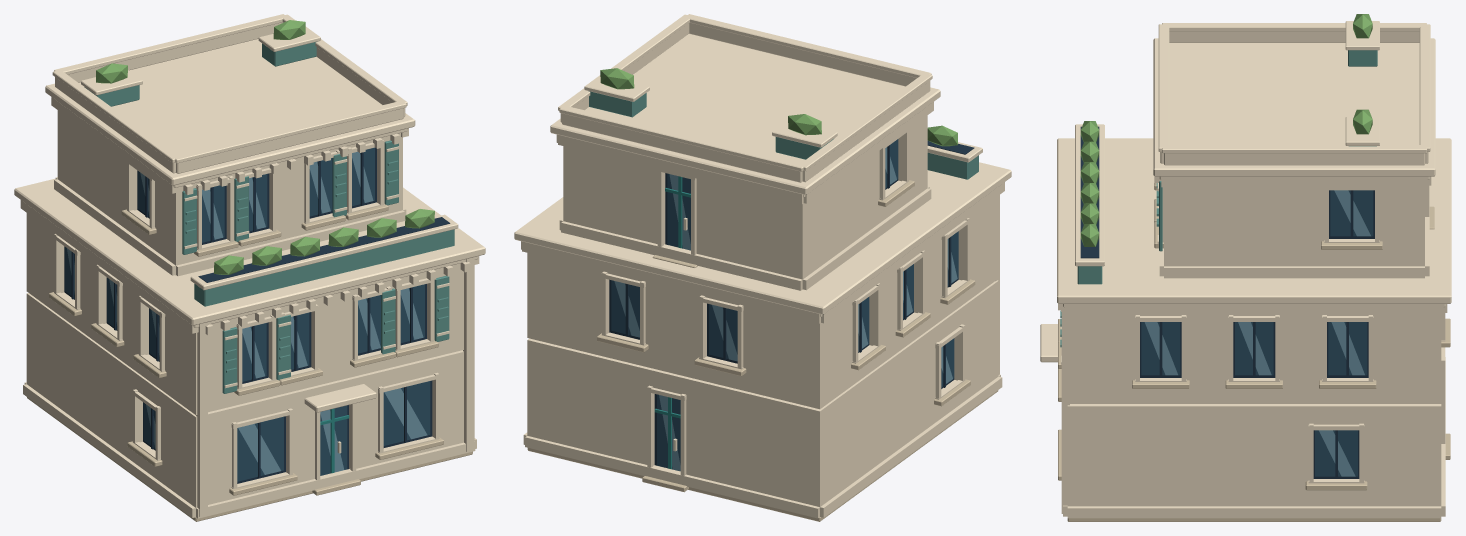
Rendered from roof_garden_house.glb.
The picture shows the model from 3 angles, left to right: view 1: azimuth 30°, elevation 25°; view 2: azimuth 150°, elevation 25°; view 3: azimuth 270°, elevation 25°; orthographic projection. The views are drawn at different scales.
Visible parts, largest first — view 1: RoofGardenHouse_StaticMesh; view 2: RoofGardenHouse_StaticMesh; view 3: RoofGardenHouse_StaticMesh.
Boxes of the visible parts, x1,y1,x2,y2 form: RoofGardenHouse_StaticMesh: [14, 14, 485, 521]; RoofGardenHouse_StaticMesh: [514, 14, 1011, 521]; RoofGardenHouse_StaticMesh: [1040, 14, 1451, 521].
Size of the model in its own units: 9.32 by 10.58 by 10.24.
